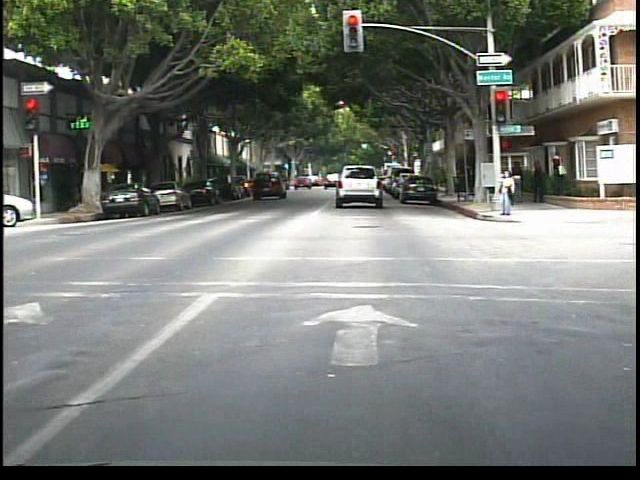person: (492, 167, 517, 218), (548, 149, 569, 196), (528, 157, 547, 207), (513, 157, 528, 205)
